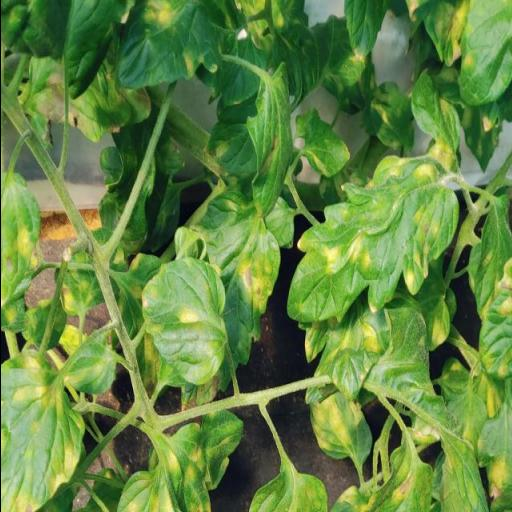disease_tomato: (286, 69, 460, 323), (0, 350, 84, 512), (140, 258, 225, 386), (310, 388, 372, 462)
